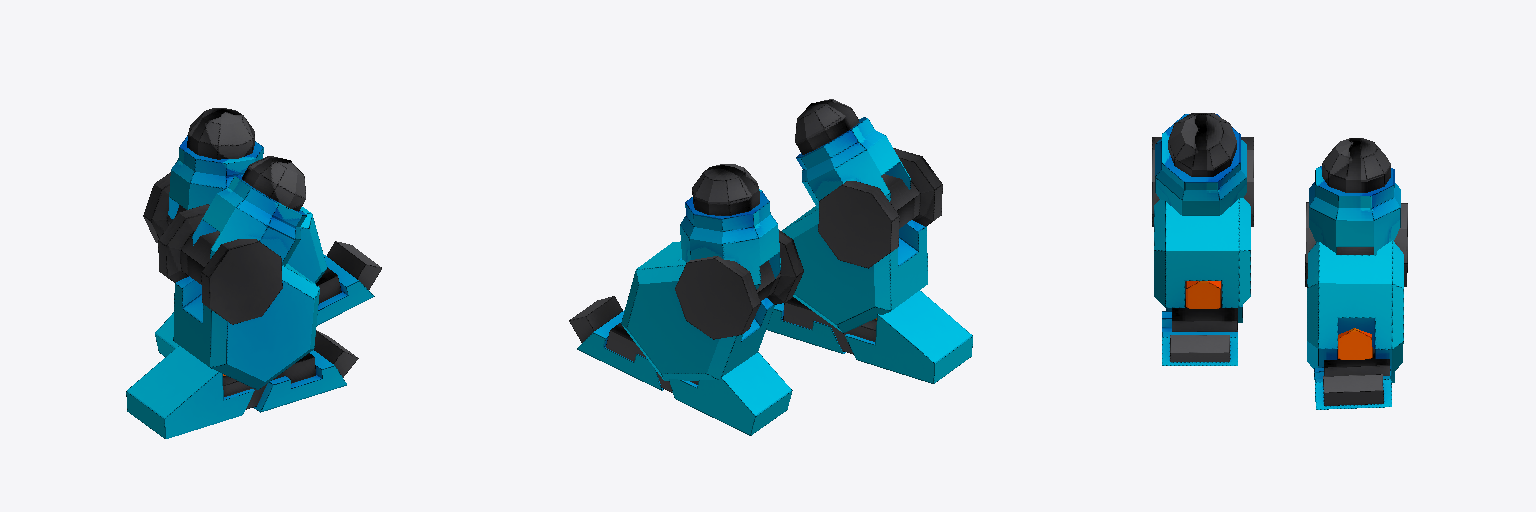
3 views of the same model, side by side, from view 1: azimuth 30°, elevation 25°; view 2: azimuth 150°, elevation 25°; view 3: azimuth 270°, elevation 25° (orthographic).
Parts seen in each view (by area): view 1: Object013, Object014, Object012, Object009, Object011, Object010; view 2: Object013, Object010, Object014, Object011, Object009, Object012; view 3: Object010, Object013, Object009, Object012, Object014, Object011.
Part boxes in pixels (x1,y1,x2,y2): Object013: (158, 204, 319, 389); Object014: (126, 330, 358, 438); Object012: (192, 156, 306, 265); Object009: (168, 108, 263, 219); Object011: (155, 241, 381, 356); Object010: (143, 172, 327, 283); Object013: (782, 148, 942, 333); Object010: (621, 230, 803, 380); Object014: (766, 291, 972, 383); Object011: (569, 296, 792, 435); Object009: (680, 164, 780, 289); Object012: (795, 99, 910, 207); Object010: (1305, 202, 1407, 374); Object013: (1152, 137, 1253, 307); Object009: (1309, 138, 1400, 254); Object012: (1155, 113, 1246, 215); Object014: (1162, 281, 1242, 365); Object011: (1314, 328, 1394, 409).
Bounding box in the file's own units: 127 × 107 × 94.65.
1 materials, 1 textured.